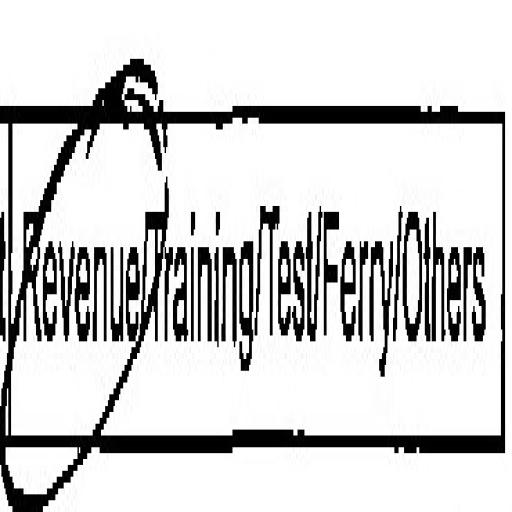check: (0, 12, 147, 512)
